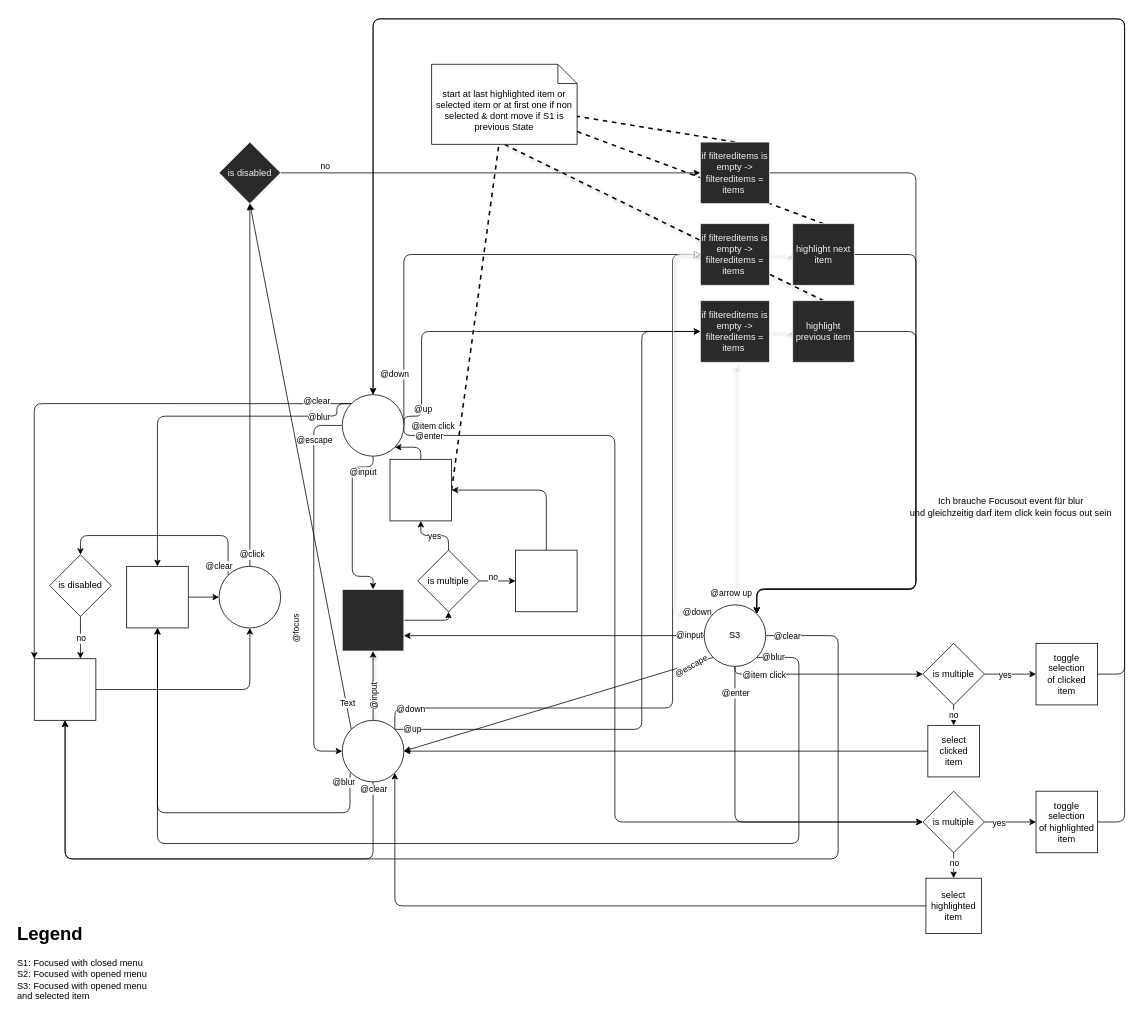
Some shapes in this 1144 by 1025 pixel diagram are drawn without their labels. Here are the shapes that lost their labels. From the top down, the centre of each, then its label:
At point (372, 425): "S2".
At point (420, 490): "highlight relevant item".
At point (157, 597): "Reset everything but not selected items".
At point (249, 597): "IDLE".
At point (546, 580): "clear selection if search empty".
At point (372, 620): "filter items".
At point (64, 689): "Reset everything".
At point (372, 751): "S1".
